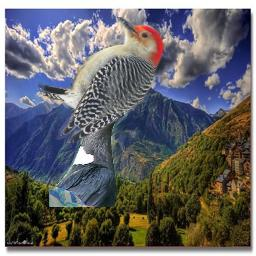Crow: (49, 102, 128, 207)
Woodpecker: (38, 17, 165, 143)
